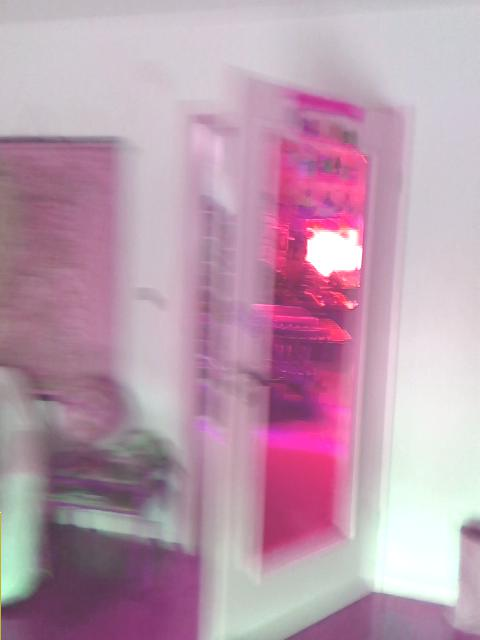semi_door: (178, 66, 414, 639)
